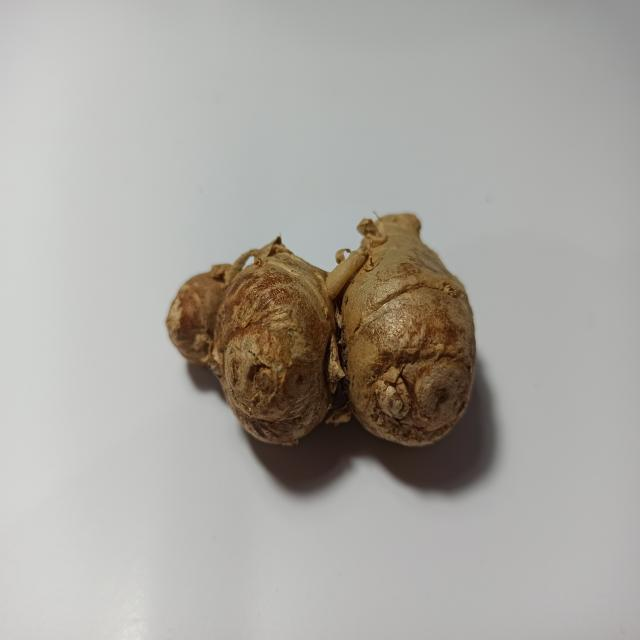ginger: (166, 205, 482, 448)
